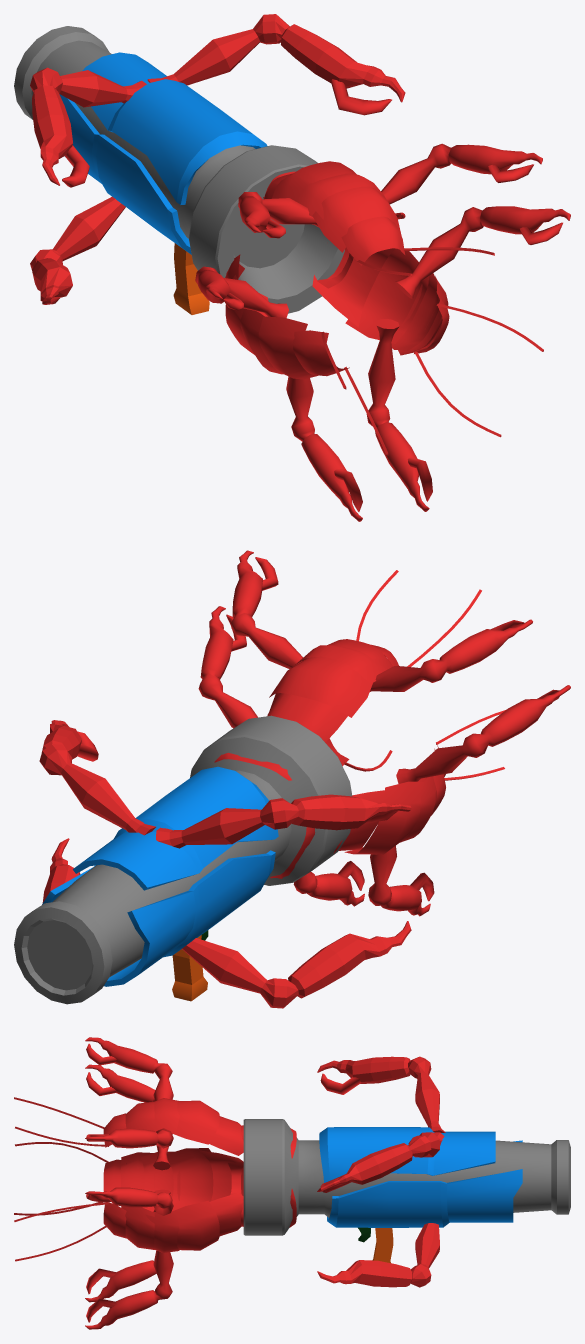
Rendered from Weapon_Ideal_Finie.fbx.
3 views of the same model, one above another, from view 1: azimuth 30°, elevation 25°; view 2: azimuth 150°, elevation 25°; view 3: azimuth 270°, elevation 25° (orthographic). The views are drawn at different scales.
Parts seen in each view (by area): view 1: Module_Ideal, Arme_parfaite; view 2: Module_Ideal, Arme_parfaite; view 3: Module_Ideal, Arme_parfaite.
Part boxes in pixels (bbox=[...]): Module_Ideal: bbox=[30, 14, 570, 521]; Arme_parfaite: bbox=[14, 26, 344, 314]; Module_Ideal: bbox=[39, 550, 570, 1008]; Arme_parfaite: bbox=[14, 715, 352, 1004]; Module_Ideal: bbox=[14, 1037, 445, 1329]; Arme_parfaite: bbox=[243, 1119, 570, 1263].
Size of the model in its own units: 192 by 168 by 364.
